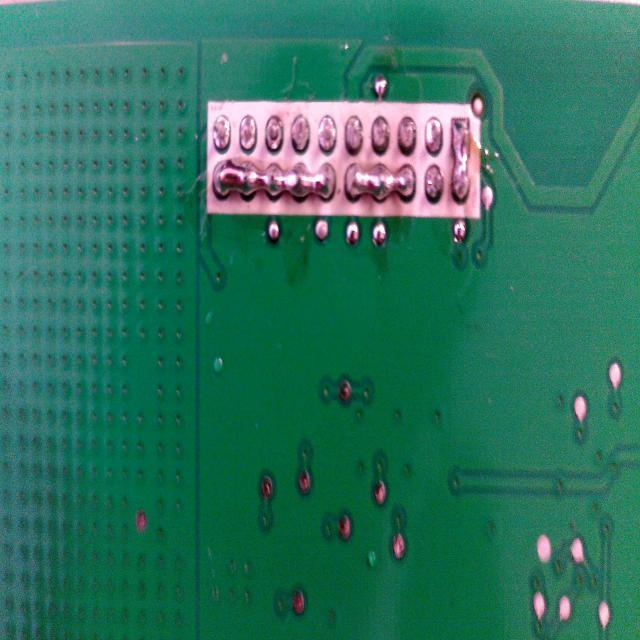Soldering shorted: (208, 153, 336, 217), (341, 158, 424, 212), (446, 110, 476, 213)
